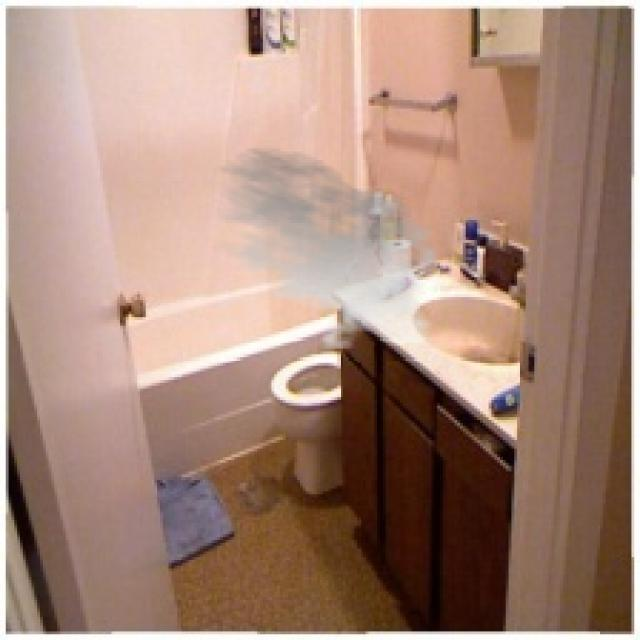Smoke: (197, 146, 449, 352)
